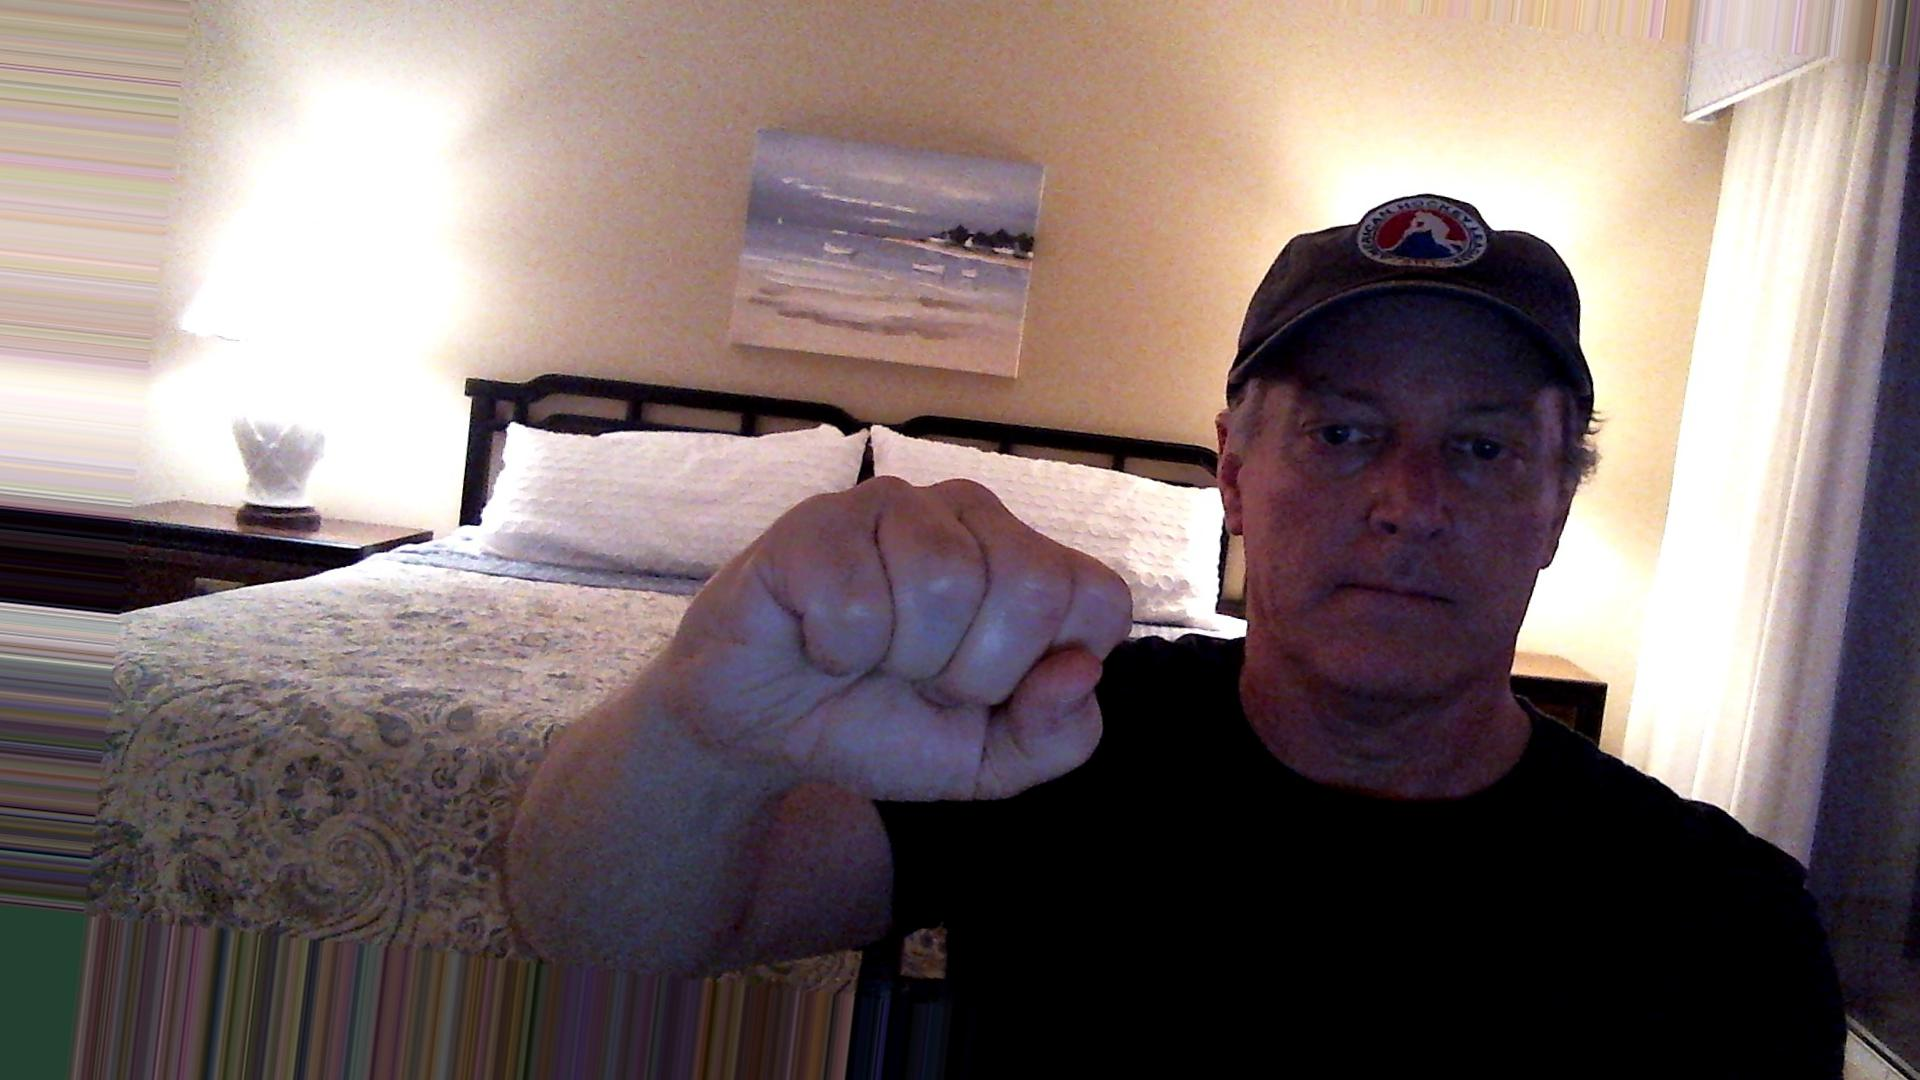Yes: (665, 436, 1145, 832)
